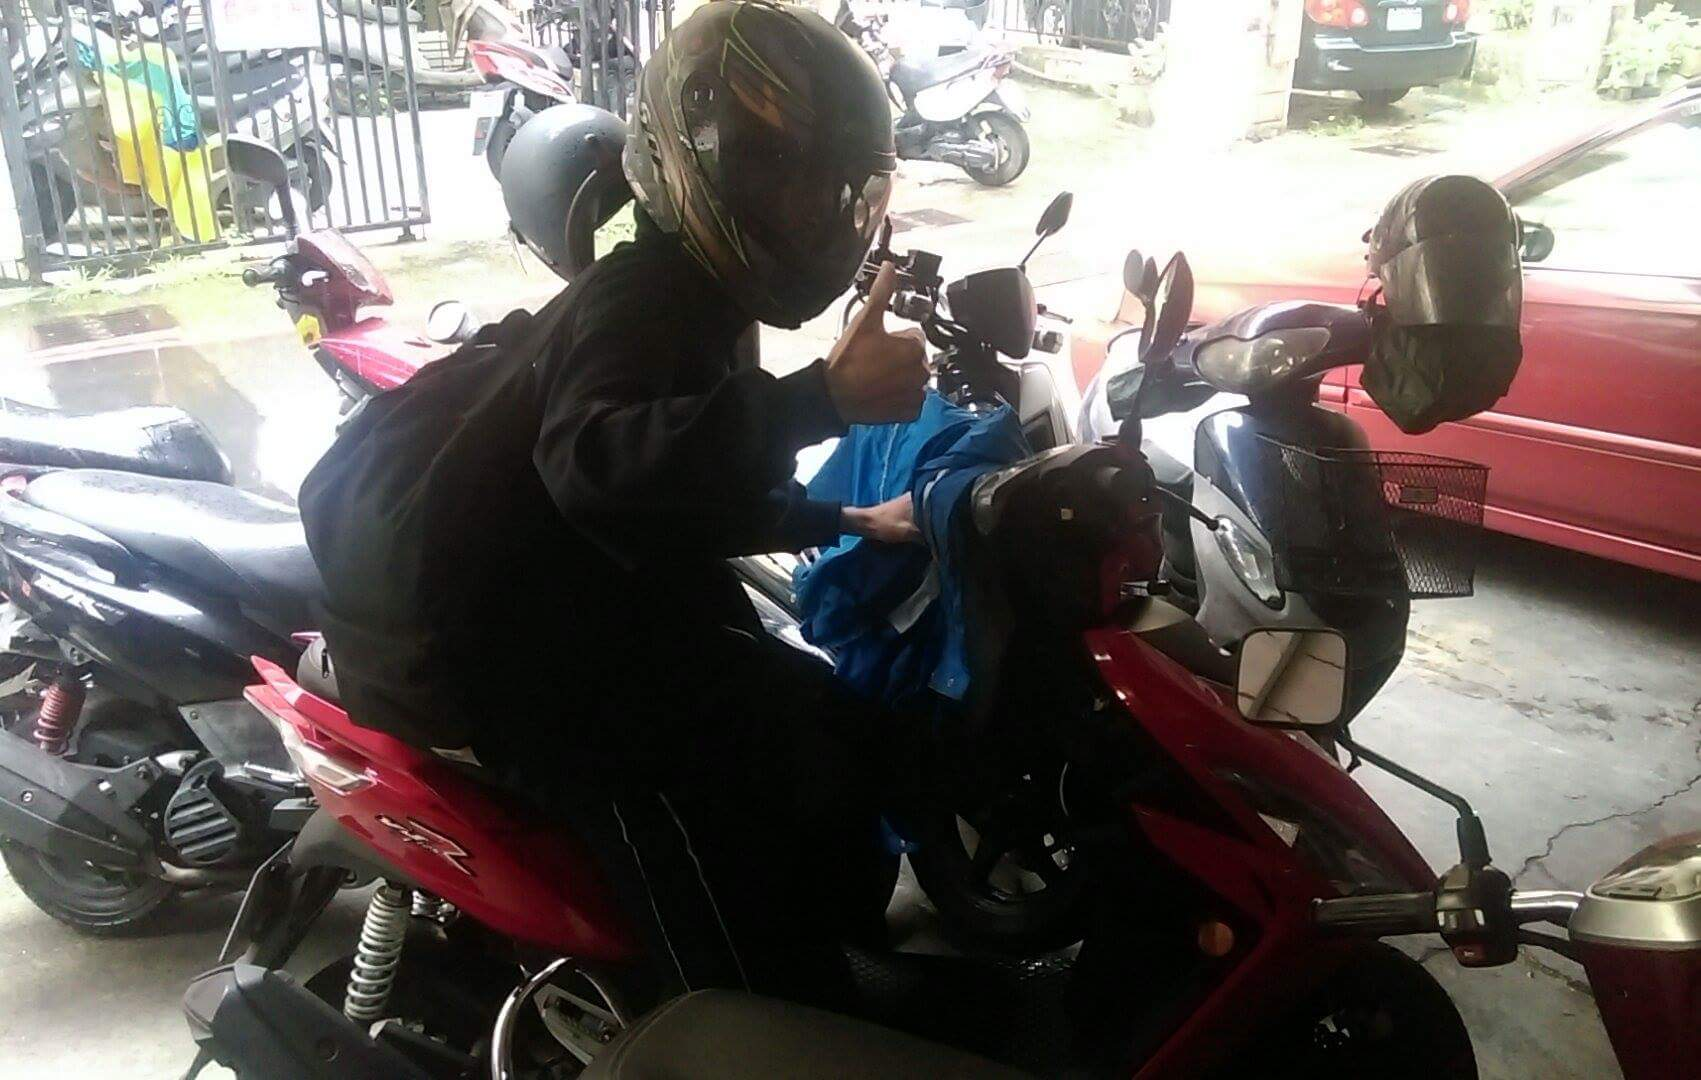helmet: (643, 15, 908, 295)
